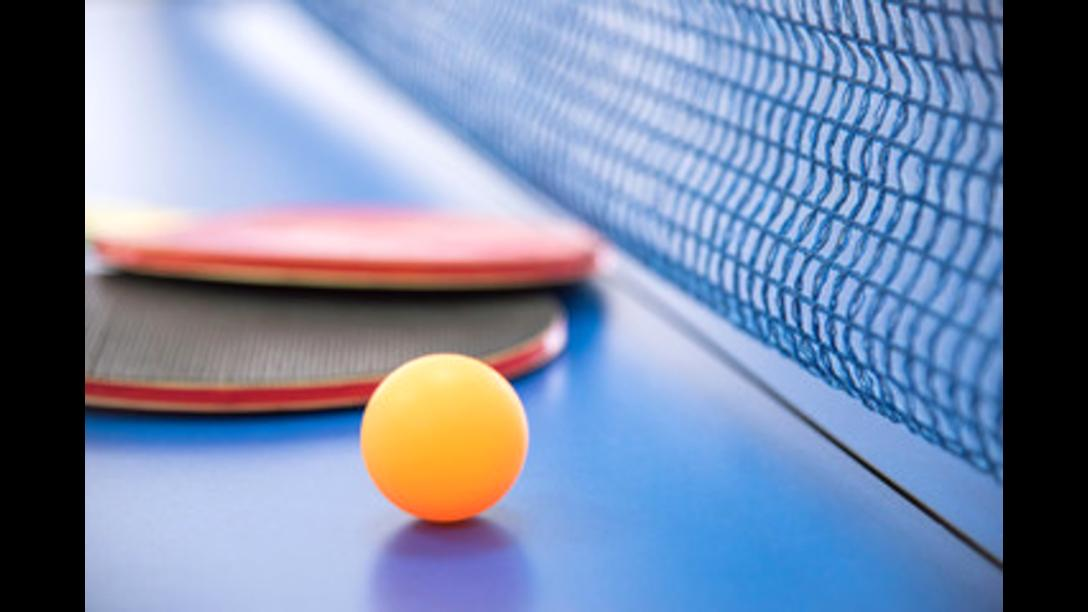Table-Tennis-Ball: (362, 355, 526, 521)
